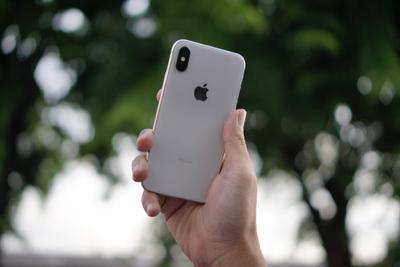cell-phone: (139, 34, 246, 205)
